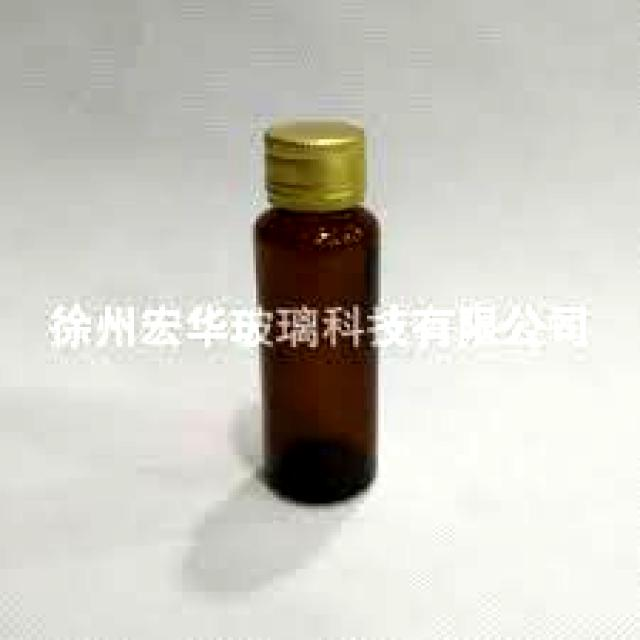Glass: (251, 116, 386, 507)
Metal: (261, 115, 373, 214)
